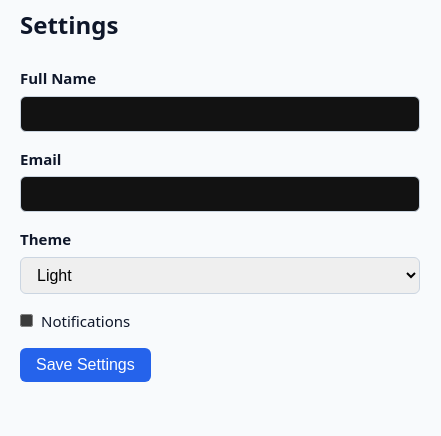
Test: SettingsForm › submits successfully with valid data and shows success message
Type "Jane Doe" into the field labelled "Full Name" at (220, 114), box [20, 96, 420, 132]
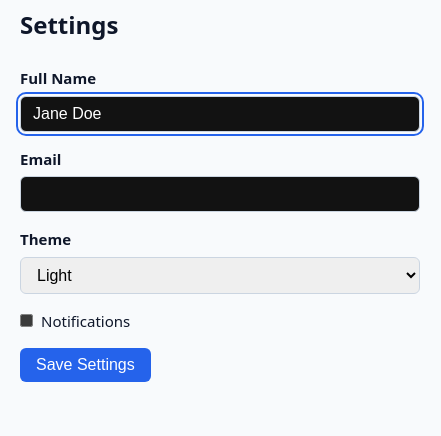
Type "jane@example.com" into the field labelled "Email" at (220, 194), box [20, 176, 420, 212]
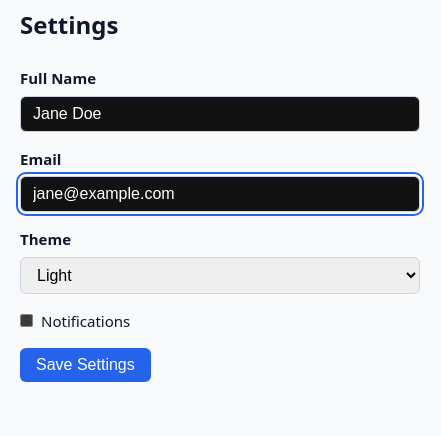
Select "Dark" in the dropdown labelled "Theme" at (220, 275), box [20, 256, 420, 294]
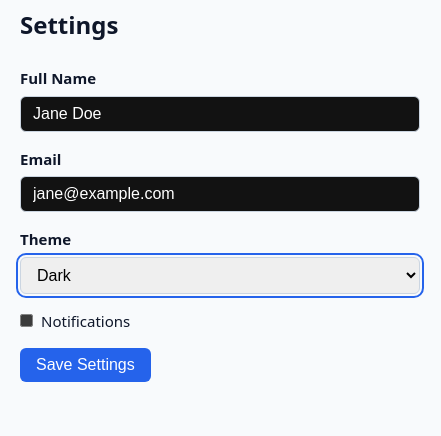
Click the checkbox labelled "Notifications" at (26, 321), box [20, 314, 33, 327]
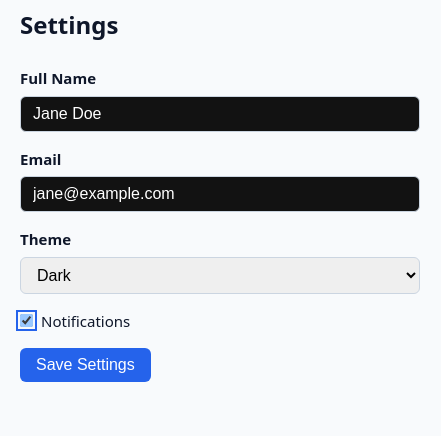
Click the button "Save Settings" at (85, 365), box [20, 348, 151, 382]
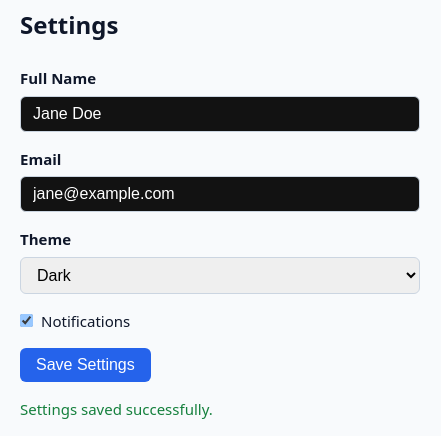
Now the text "Settings saved successfully." is shown, box [20, 399, 213, 419]
